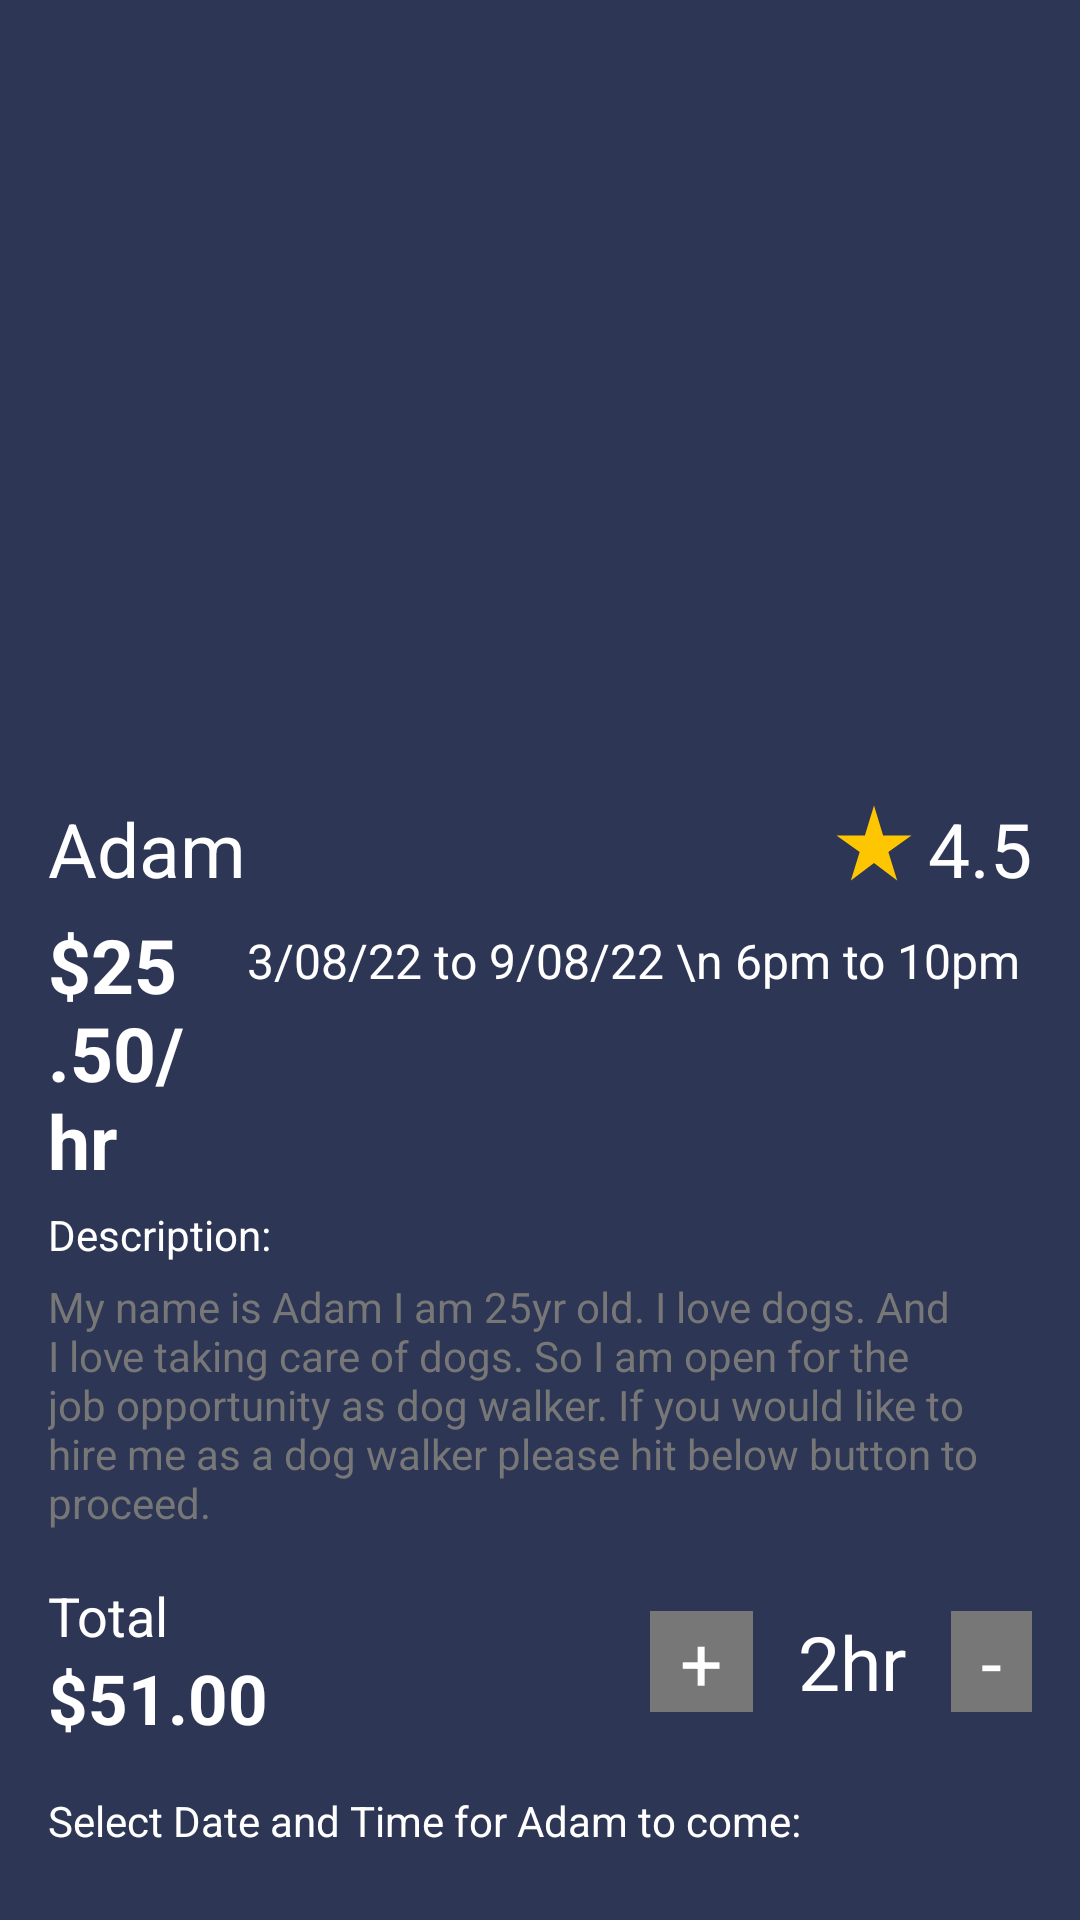

Screen size 1080 x 1920. Icon name, then its box in pixels as (x1, y1, x2, y2):
star rate: (837, 806, 911, 880)
